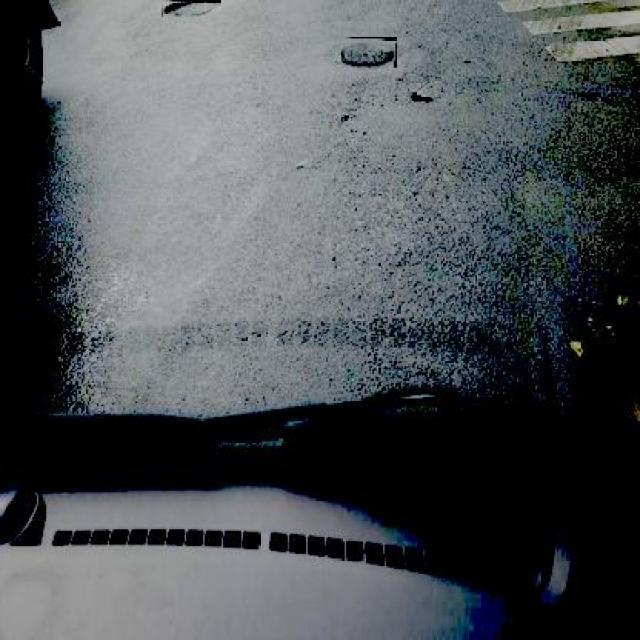Manhole: (340, 37, 398, 68), (162, 3, 220, 20)
Pothole: (392, 76, 456, 120)
Speed Bump: (481, 0, 640, 77)
